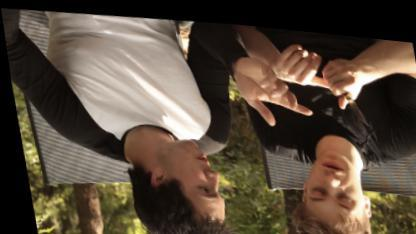knife: (320, 61, 378, 128)
